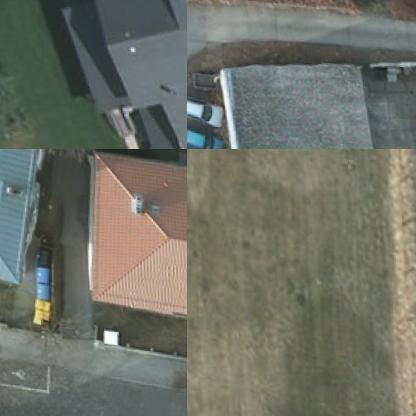car: (187, 87, 222, 126), (187, 122, 221, 148)
